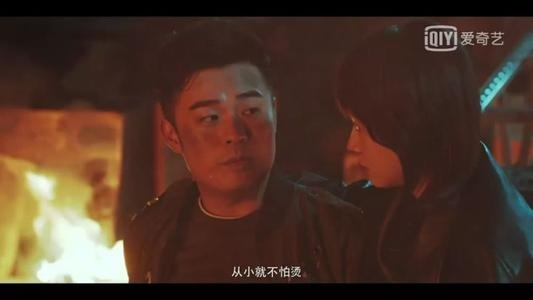fire: (14, 165, 126, 282)
